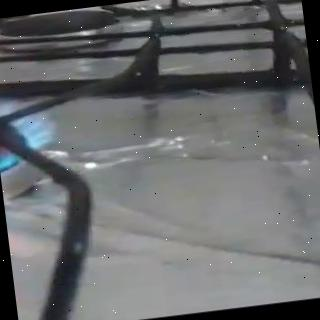fire: (0, 12, 66, 181)
